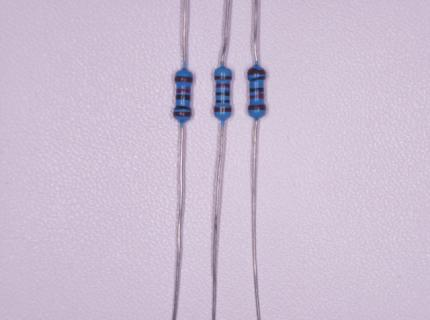Black band: (249, 76, 265, 81), (249, 88, 264, 93), (176, 95, 190, 100), (216, 91, 230, 96), (175, 106, 191, 109), (215, 100, 230, 103)
Brown band: (175, 76, 193, 83), (173, 111, 192, 117), (248, 69, 267, 74), (248, 105, 266, 110), (214, 107, 231, 112), (214, 75, 232, 79)
Red band: (249, 93, 264, 99), (216, 83, 230, 88), (177, 89, 191, 93)
